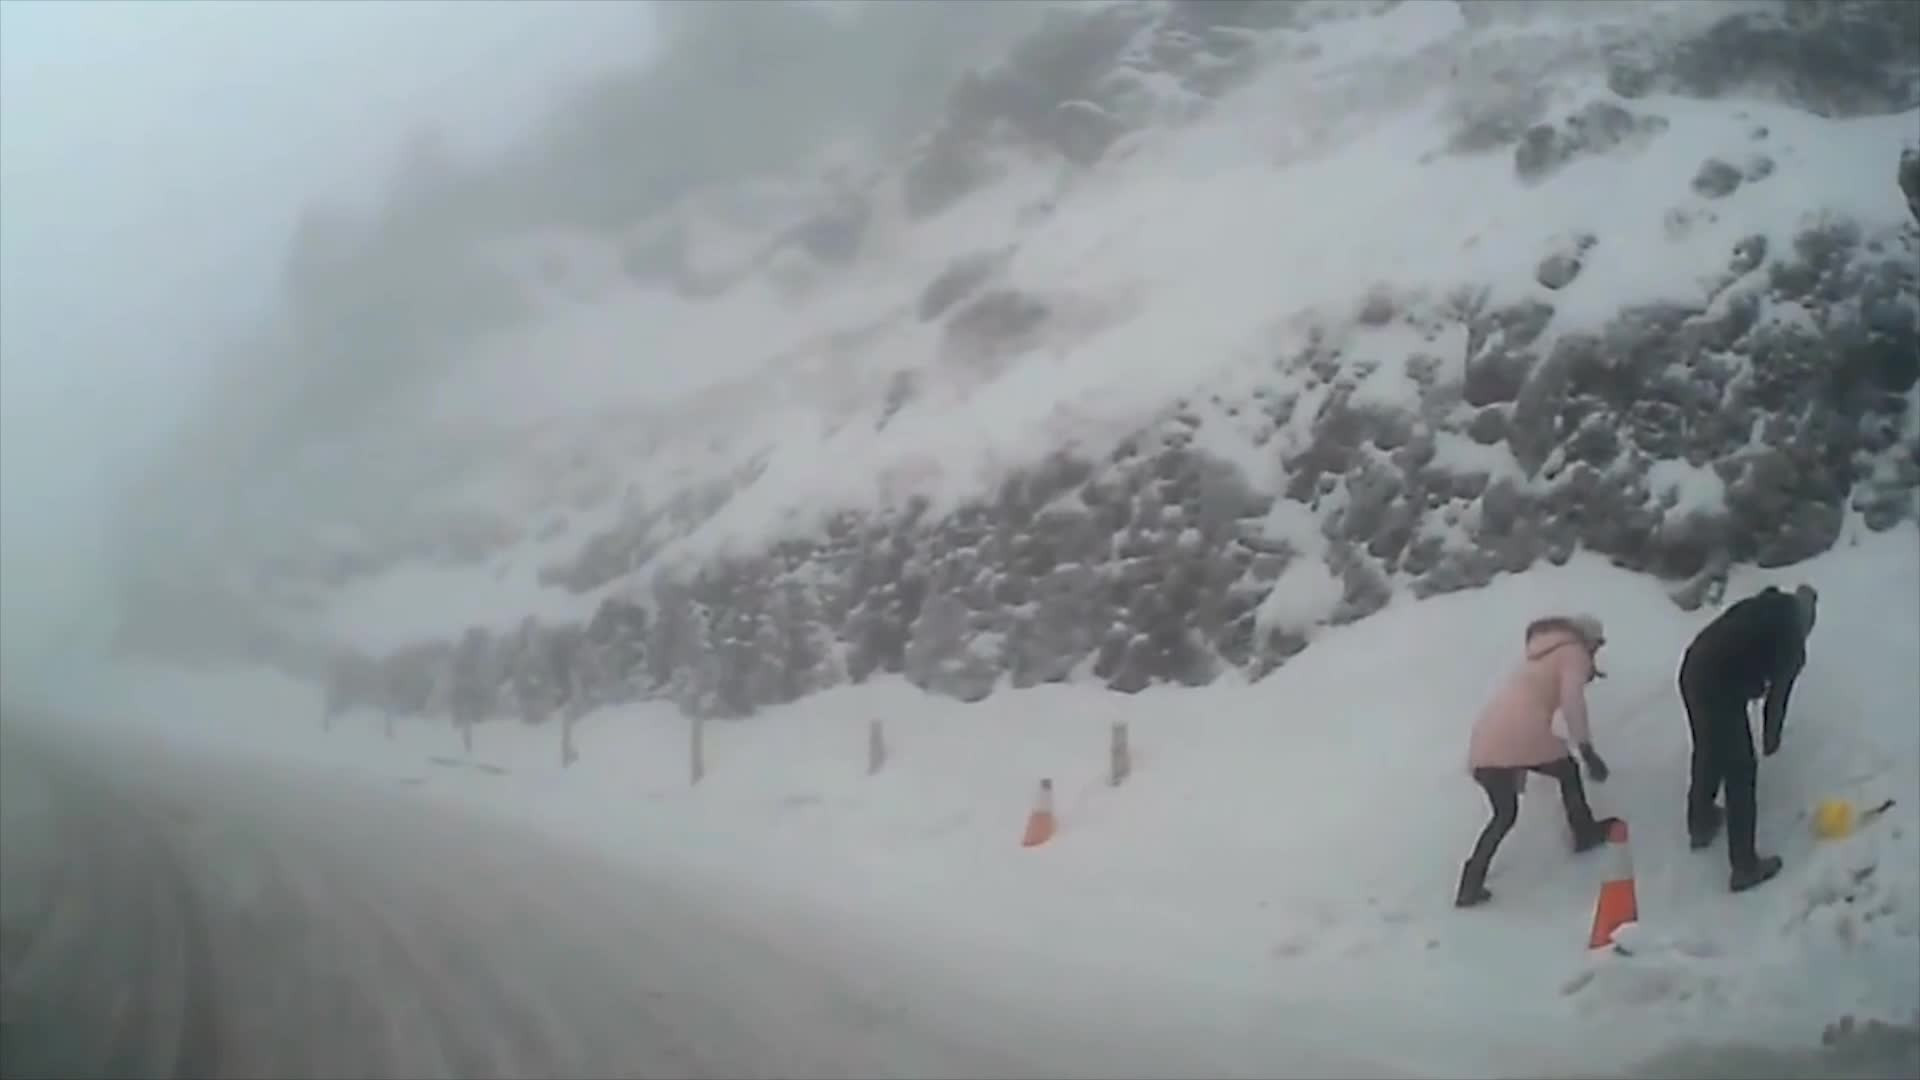pedestrian: (1457, 616, 1621, 906), (1681, 581, 1822, 896)
